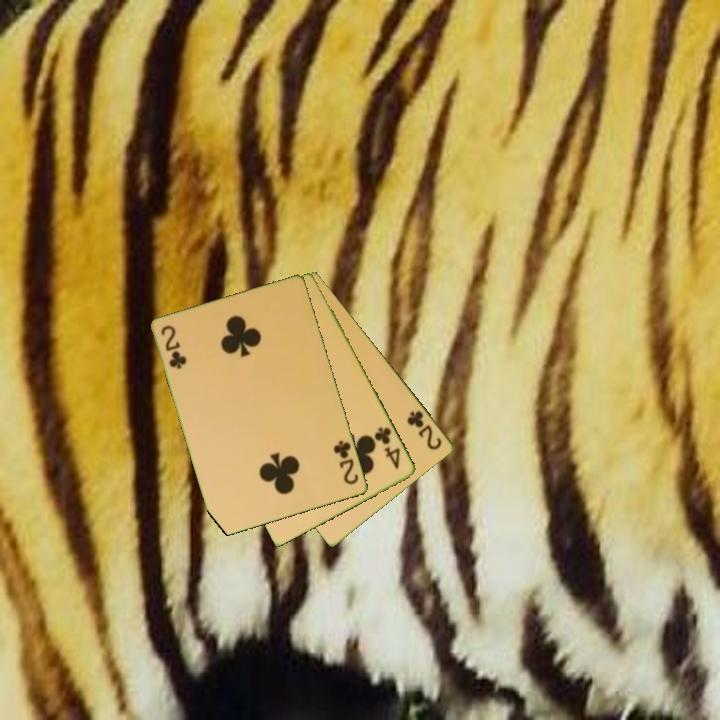2c: (404, 407, 445, 453), (330, 437, 362, 488), (158, 322, 189, 372)
4c: (371, 423, 403, 472)
